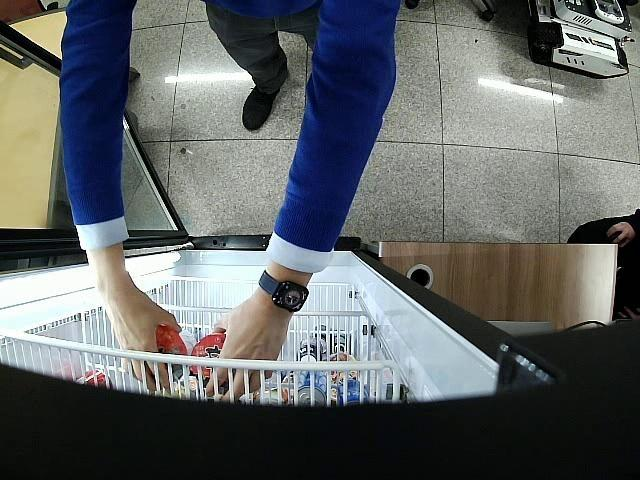02_shinRamen_S: (145, 328, 187, 382), (190, 332, 228, 389)
